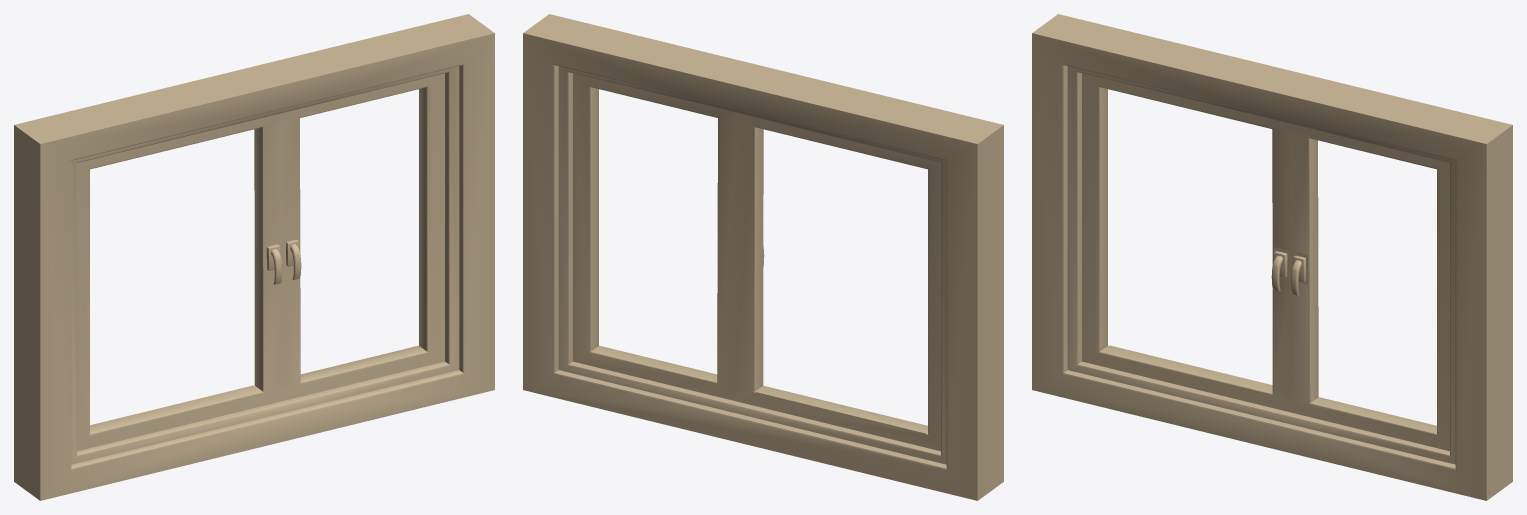
The model's file is bedroom_window_abg.fbx.
The picture shows the model from 3 angles, left to right: view 1: azimuth 30°, elevation 25°; view 2: azimuth 150°, elevation 25°; view 3: azimuth 330°, elevation 25°; orthographic projection.
Parts seen in each view (by area): view 1: window; view 2: window; view 3: window.
Part boxes in pixels (x1,y1,x2,y2): window: (14,14,494,500); window: (523,14,1003,500); window: (1032,14,1512,500).
Size of the model in its own units: 200 by 20 by 150.
